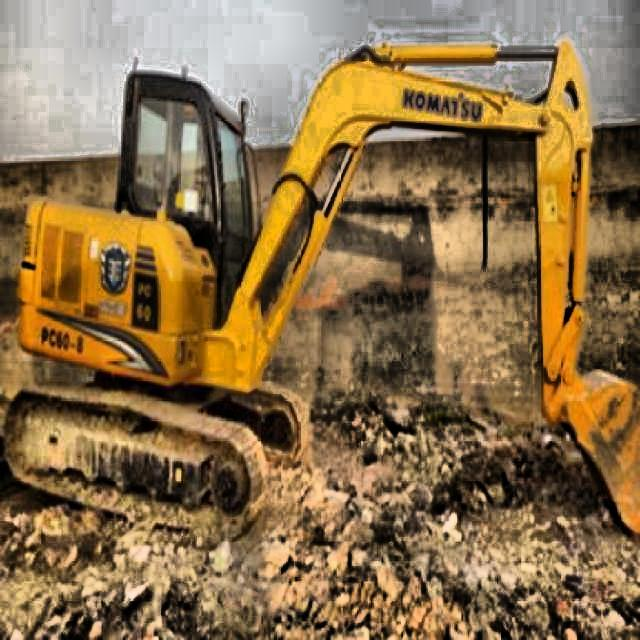excavator: (3, 28, 637, 562)
